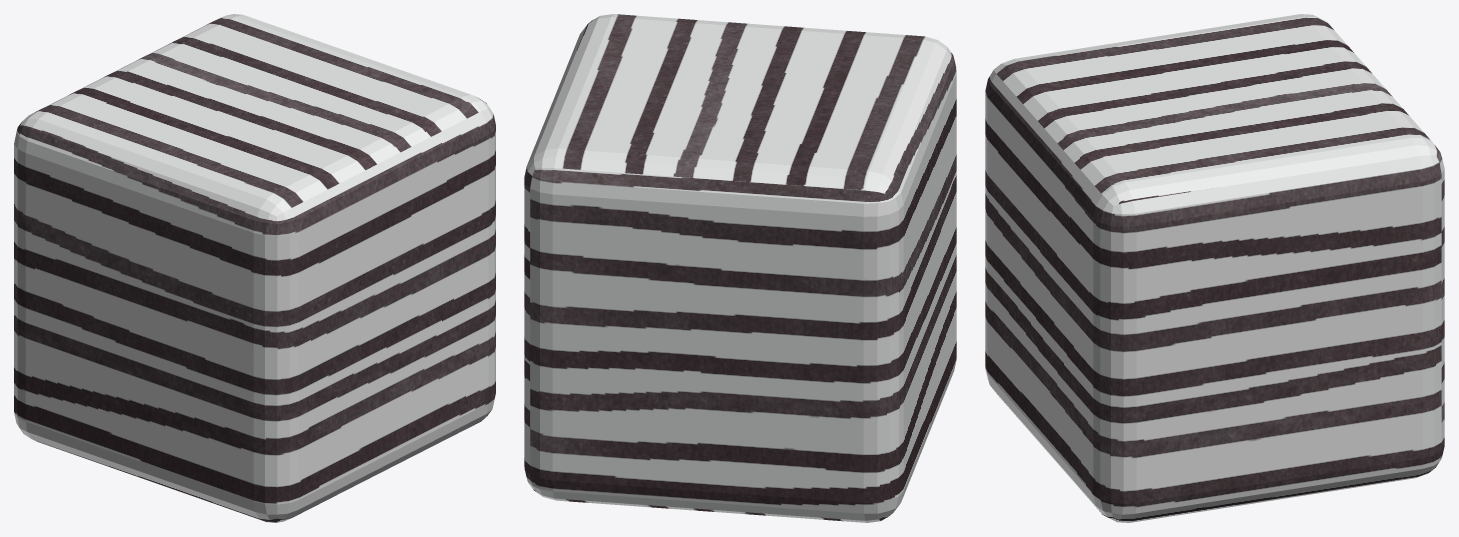
The model's file is 010_Shadow_Box_05.fbx.
3 renders of one model, left to right at view 1: azimuth 30°, elevation 25°; view 2: azimuth 150°, elevation 25°; view 3: azimuth 270°, elevation 25°, orthographic. The views are drawn at different scales.
Visible parts, largest first — view 1: Cube.024; view 2: Cube.024; view 3: Cube.024.
Boxes of the visible parts, x1,y1,x2,y2 form: Cube.024: [14, 14, 495, 522]; Cube.024: [524, 14, 956, 522]; Cube.024: [985, 14, 1444, 522].
Size of the model in its own units: 139 by 113 by 139.
